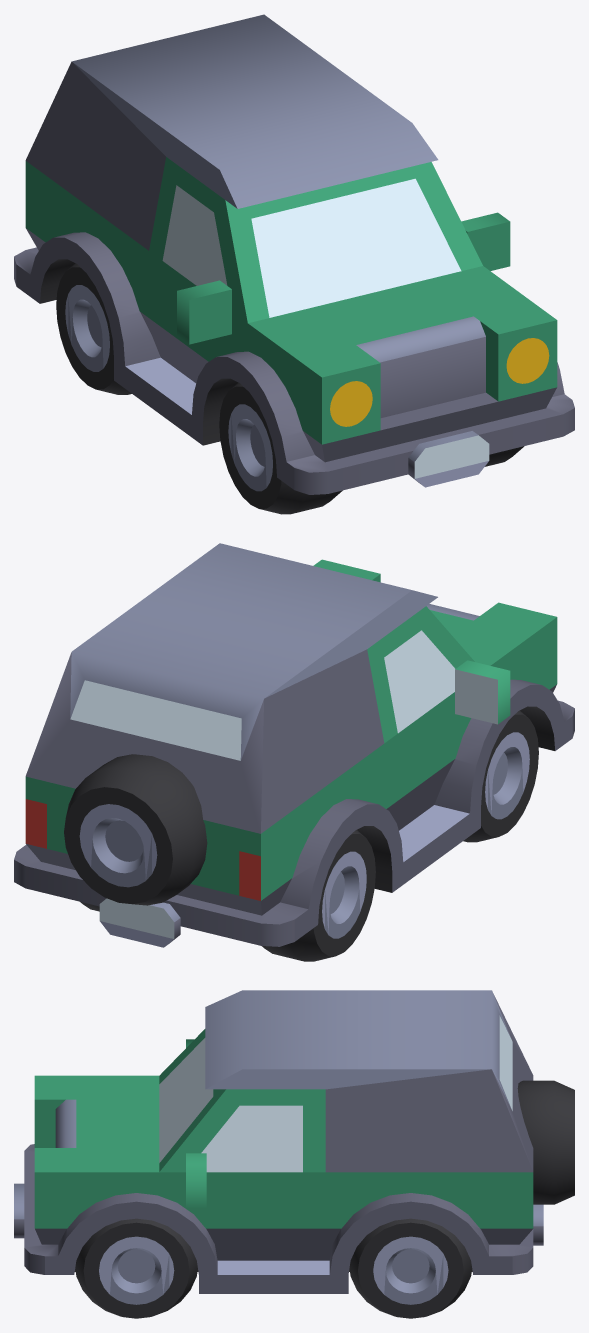
The model's file is suv.glb.
3 renders of one model, top to bottom at view 1: azimuth 30°, elevation 25°; view 2: azimuth 150°, elevation 25°; view 3: azimuth 270°, elevation 25°, orthographic. The views are drawn at different scales.
Parts seen in each view (by area): view 1: body, wheel-front-right, wheel-back-right; view 2: body, wheel-back, wheel-back-right, wheel-front-right; view 3: body, wheel-back-left, wheel-front-left, wheel-back.
Boxes of the visible parts, x1,y1,x2,y2 form: body: (14, 14, 574, 494); wheel-front-right: (219, 382, 342, 514); wheel-back-right: (56, 263, 131, 394); body: (14, 543, 574, 947); wheel-back: (64, 754, 207, 905); wheel-back-right: (262, 830, 375, 961); wheel-front-right: (463, 710, 538, 842); body: (14, 990, 543, 1293); wheel-back-left: (349, 1218, 472, 1318); wheel-front-left: (75, 1218, 197, 1318); wheel-back: (517, 1080, 574, 1204).
Bounding box in the file's own units: 1.5 × 1.3 × 2.7.
